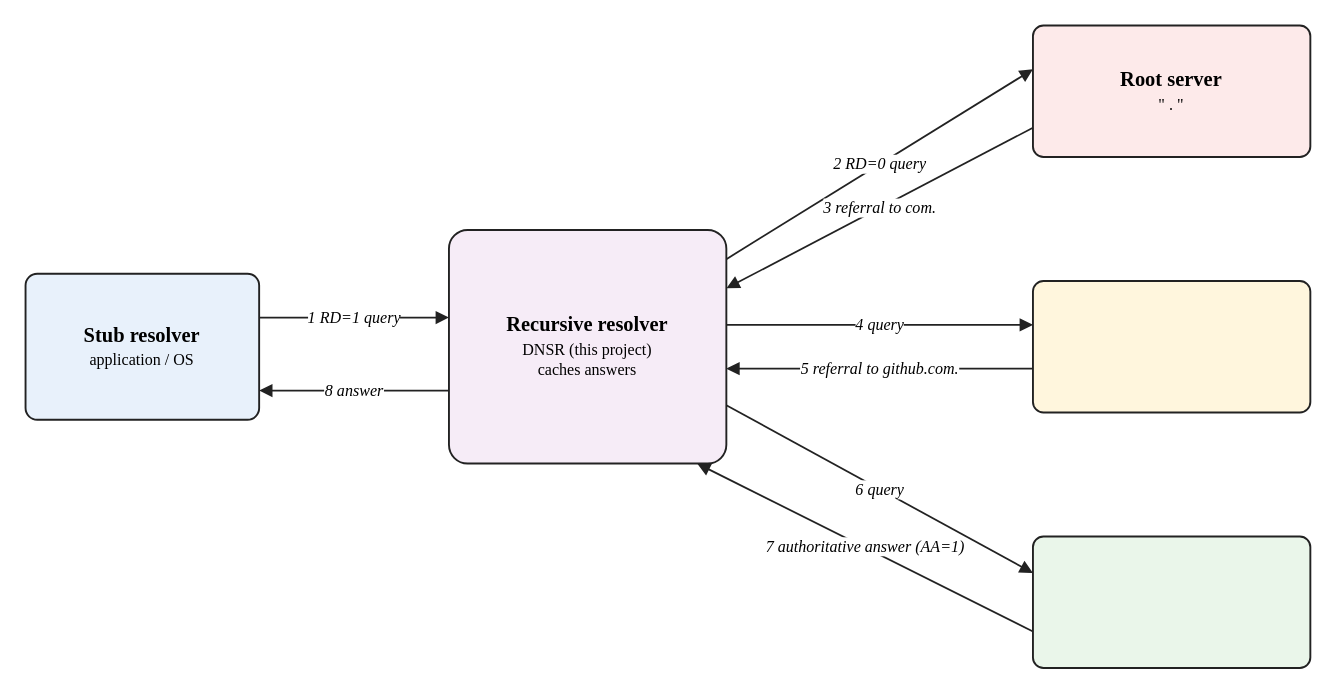
Image size: 1337x695. Some labels were removed from this diagram. The shapes that lost their labels are listed below. From the top down, each one's centre as x and y in pixels, then its label:
the point at 1171,346: TLD server com.
the point at 1171,601: Authoritative NS github.com.
